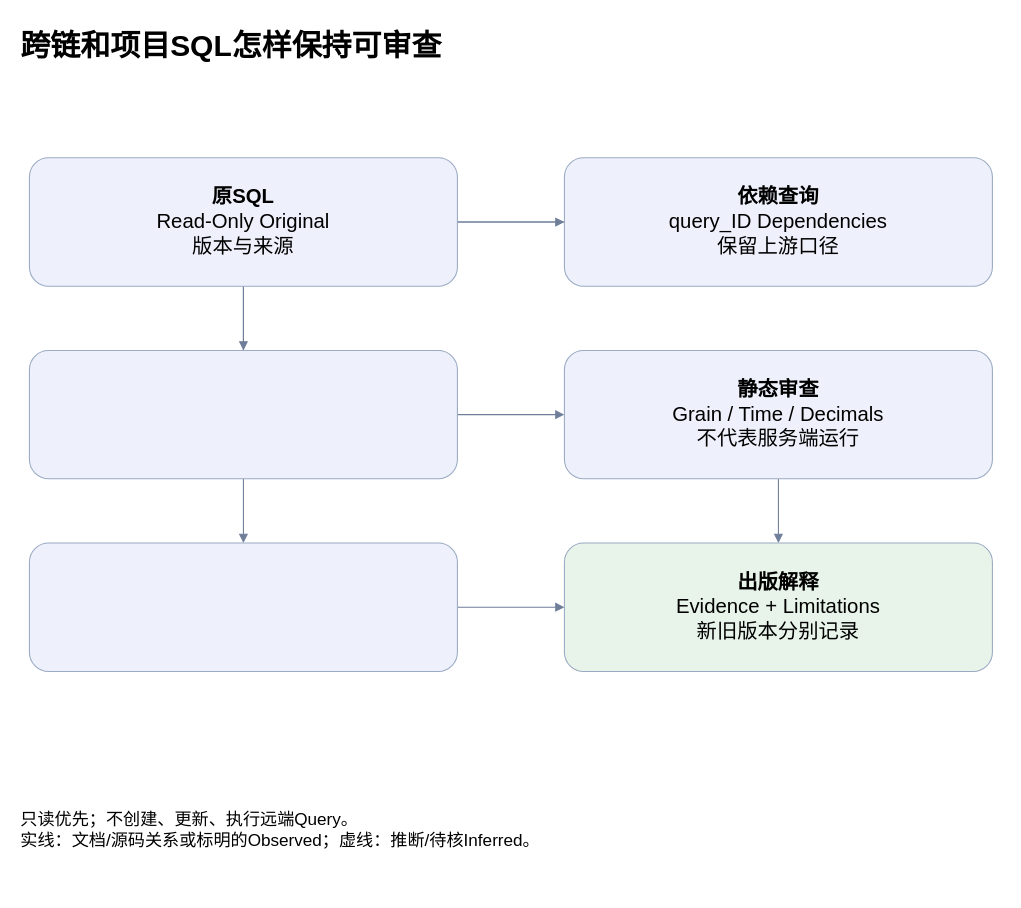
The diagram is 1021 pixels wide and 908 high, and some of its shapes have lost their labels. Each missing label, with the centre of its shape:
Schema核对 Tables + Fields + Types 不猜未取得字段: the point at 242,414
历史结果 Existing Executions 截止与样本范围: the point at 242,606
